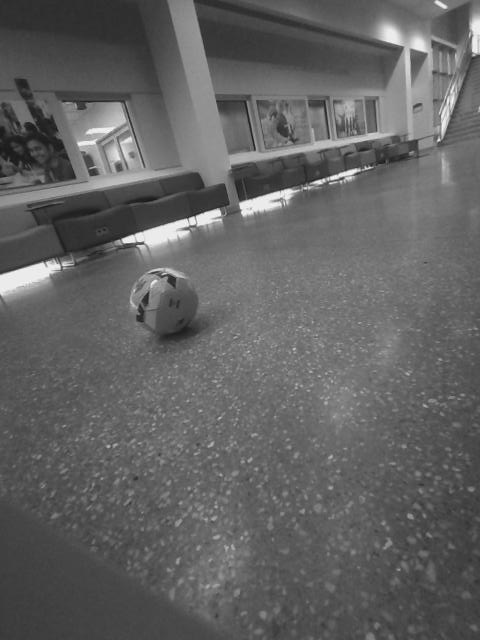ball: (125, 264, 202, 340)
